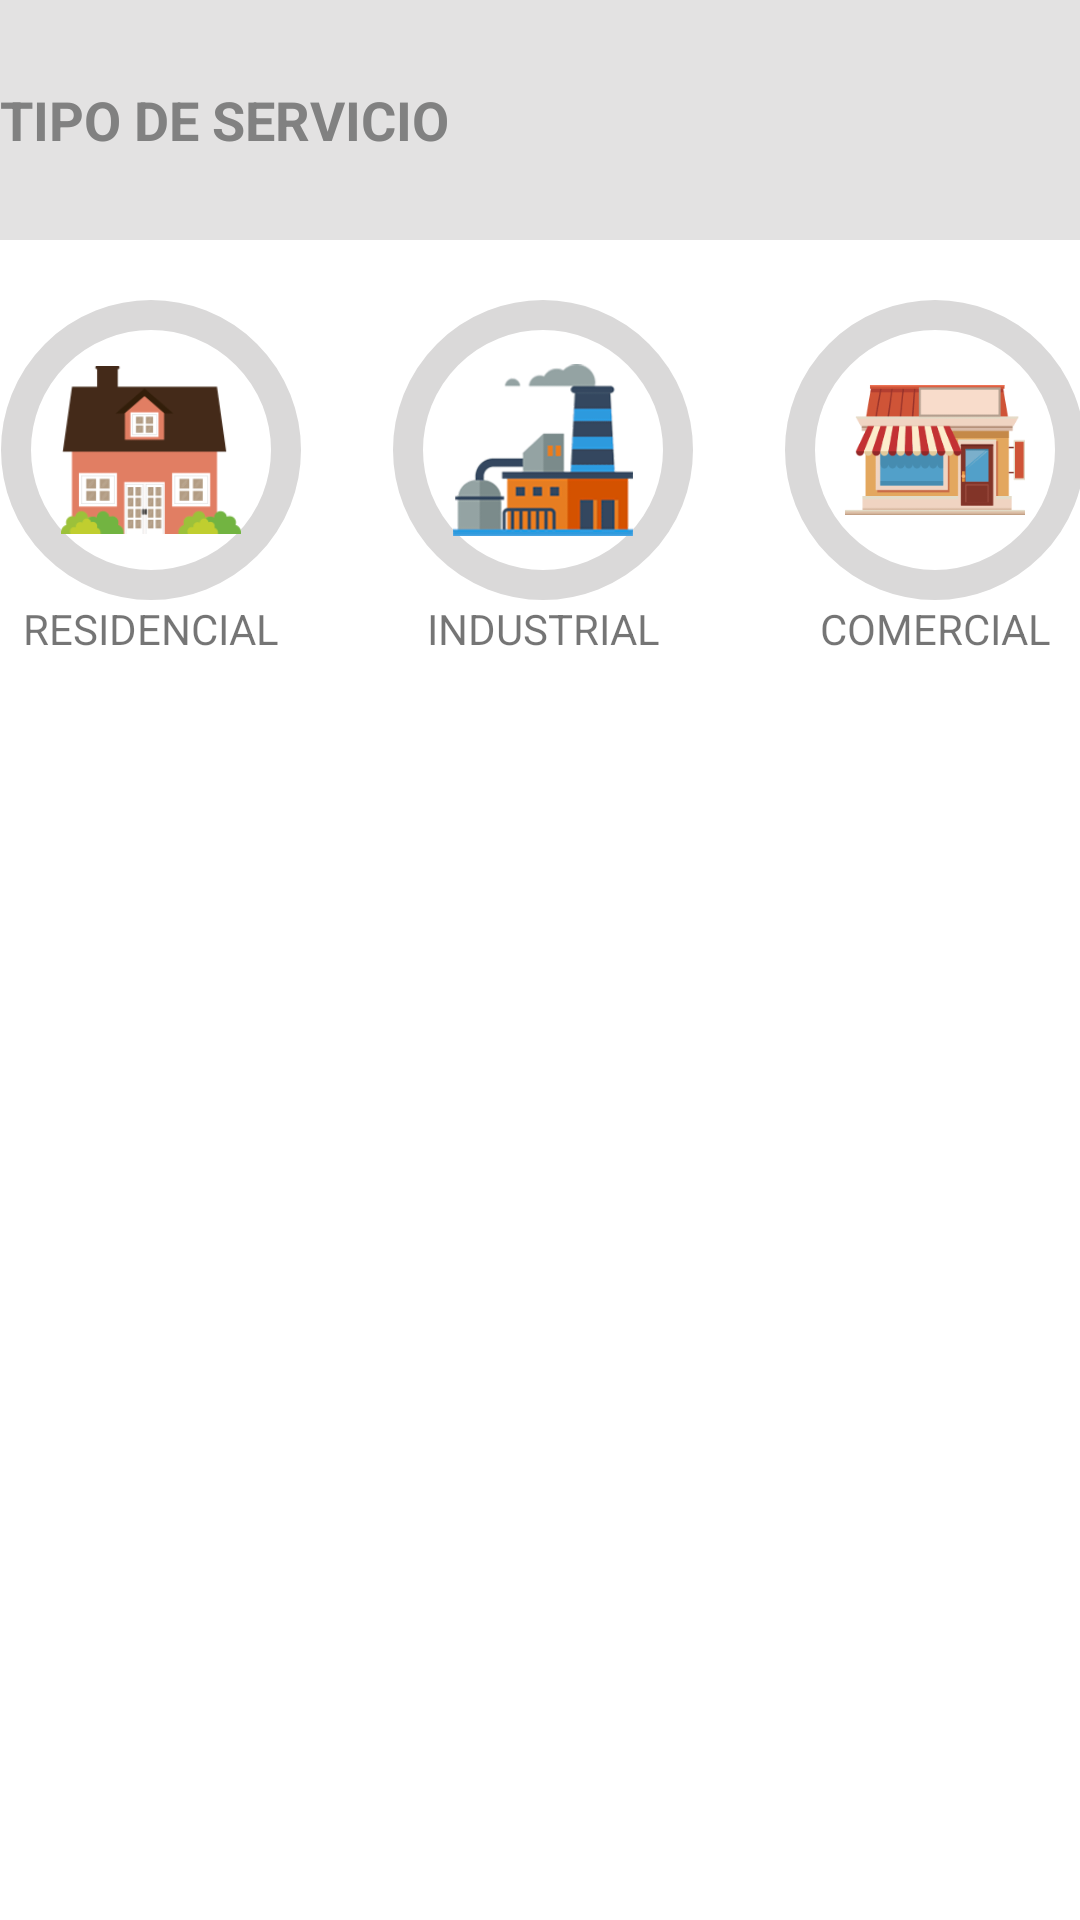

Icon bounding boxes for this 1080w x 1920h phone screenshot, format {"x1": x1, "y1": y1, "x2": x2, "y2": y2}:
hogarvector: {"x1": 1, "y1": 300, "x2": 301, "y2": 600}
